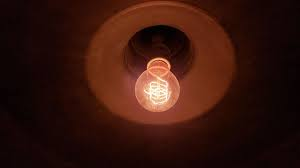bulb: (134, 48, 185, 115)
